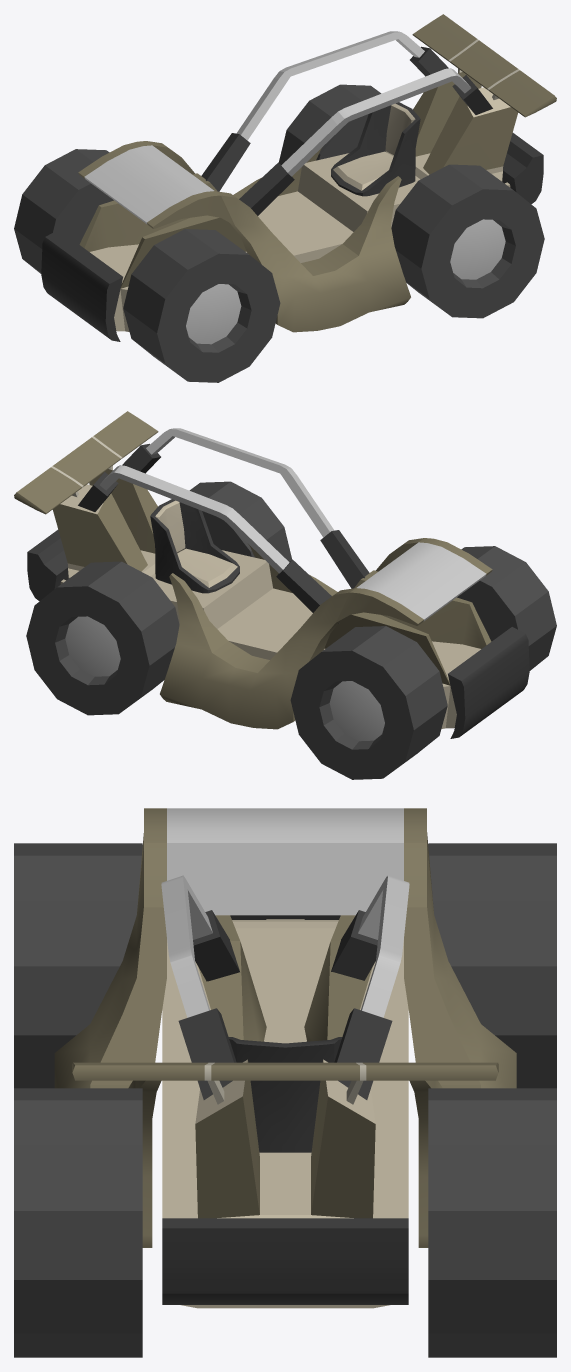
File: Buggy.fbx
The picture shows the model from 3 angles, top to bottom: view 1: azimuth 30°, elevation 25°; view 2: azimuth 150°, elevation 25°; view 3: azimuth 270°, elevation 25°; orthographic projection. The views are drawn at different scales.
Parts seen in each view (by area): view 1: SideSkirts, Frame, TireFrontLeft, TireRearLeft, TireFrontRight, originalSeat3, FrontBumper, Spoiler, RollcageLeft, RollcageRight, TireRearRight, RearBumber; view 2: SideSkirts, Frame, TireFrontRight, TireRearRight, TireFrontLeft, originalSeat3, FrontBumper, Spoiler, RollcageRight, RollcageLeft, TireRearLeft, RearBumber; view 3: SideSkirts, Frame, TireRearLeft, TireRearRight, TireFrontLeft, TireFrontRight, RearBumber, RollcageLeft, Spoiler, RollcageRight, originalSeat3.
Part boxes in pixels (left/top/right/bottom): SideSkirts: left=78, top=141, right=410, bottom=332; Frame: left=79, top=72, right=518, bottom=331; TireFrontLeft: left=123, top=229, right=280, bottom=382; TireRearLeft: left=391, top=164, right=544, bottom=318; TireFrontRight: left=14, top=149, right=113, bottom=273; originalSeat3: left=331, top=102, right=420, bottom=196; FrontBumper: left=41, top=230, right=122, bottom=341; Spoiler: left=412, top=14, right=556, bottom=117; RollcageLeft: left=239, top=68, right=492, bottom=215; RollcageRight: left=201, top=31, right=448, bottom=191; TireRearRight: left=278, top=84, right=381, bottom=164; RearBumber: left=502, top=132, right=543, bottom=204; SideSkirts: left=160, top=538, right=492, bottom=729; Frame: left=52, top=469, right=491, bottom=728; TireFrontRight: left=290, top=626, right=447, bottom=779; TireRearRight: left=26, top=561, right=179, bottom=715; TireFrontLeft: left=457, top=546, right=556, bottom=670; originalSeat3: left=150, top=499, right=239, bottom=593; FrontBumper: left=448, top=627, right=529, bottom=738; Spoiler: left=14, top=411, right=158, bottom=514; RollcageRight: left=78, top=465, right=339, bottom=623; RollcageLeft: left=122, top=428, right=369, bottom=588; TireRearLeft: left=189, top=481, right=292, bottom=561; RearBumber: left=27, top=529, right=68, bottom=601; SideSkirts: left=54, top=808, right=516, bottom=1247; Frame: left=162, top=915, right=408, bottom=1308; TireRearLeft: left=14, top=1088, right=142, bottom=1357; TireRearRight: left=428, top=1088, right=556, bottom=1357; TireFrontLeft: left=14, top=843, right=142, bottom=1088; TireFrontRight: left=428, top=843, right=556, bottom=1088; RearBumber: left=162, top=1218, right=408, bottom=1304; RollcageLeft: left=161, top=875, right=239, bottom=1099; Spoiler: left=72, top=1062, right=498, bottom=1104; RollcageRight: left=331, top=875, right=409, bottom=1099; originalSeat3: left=228, top=1037, right=342, bottom=1152.
Bounding box in the file's own units: 7.46 × 3.48 × 4.22.
